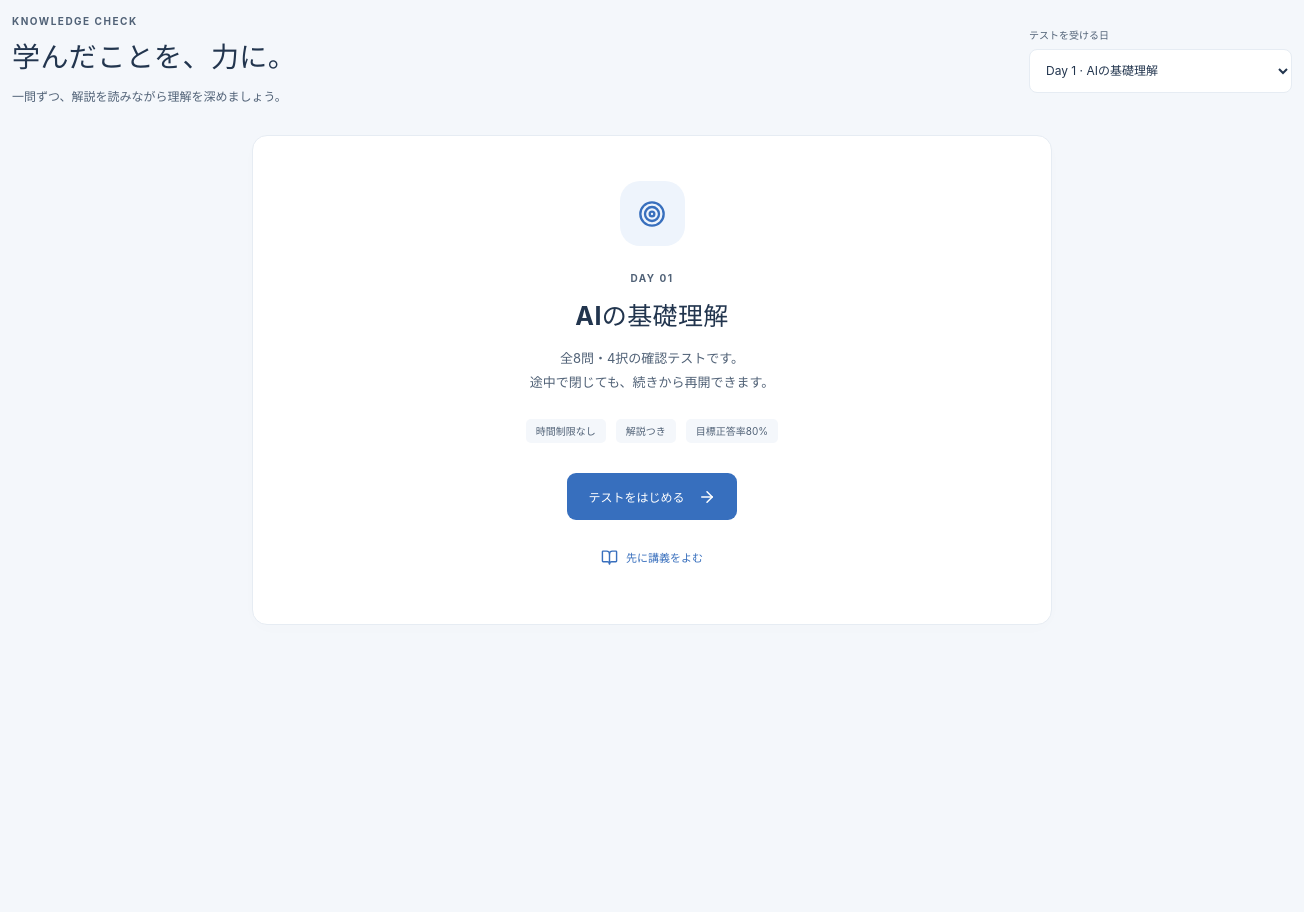
Test: 4択の選択・採点・解説表示を操作でき、再マウントしてもその状態を復元する
Later steps or results of the test are not shown.
Click the button "テストをはじめる": (652,497) 568,473 -> 736,520
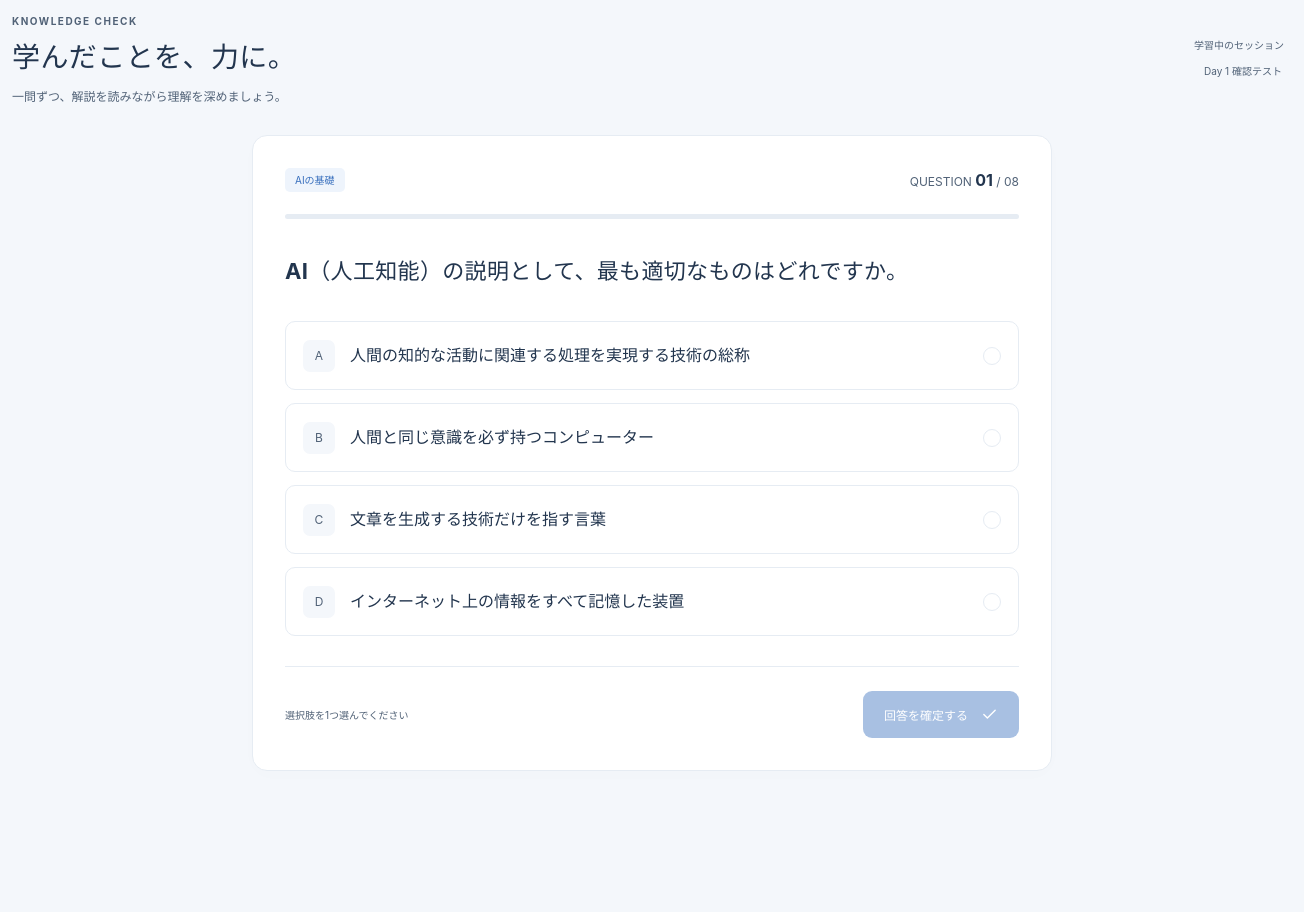
Check: the button "回答を確定する" is disabled, box 863,691 -> 1019,738
Click the radio button labelled "A 人間の知的な活動に関連する処理を実現する技術の総称": (652,356) 285,321 -> 1019,390
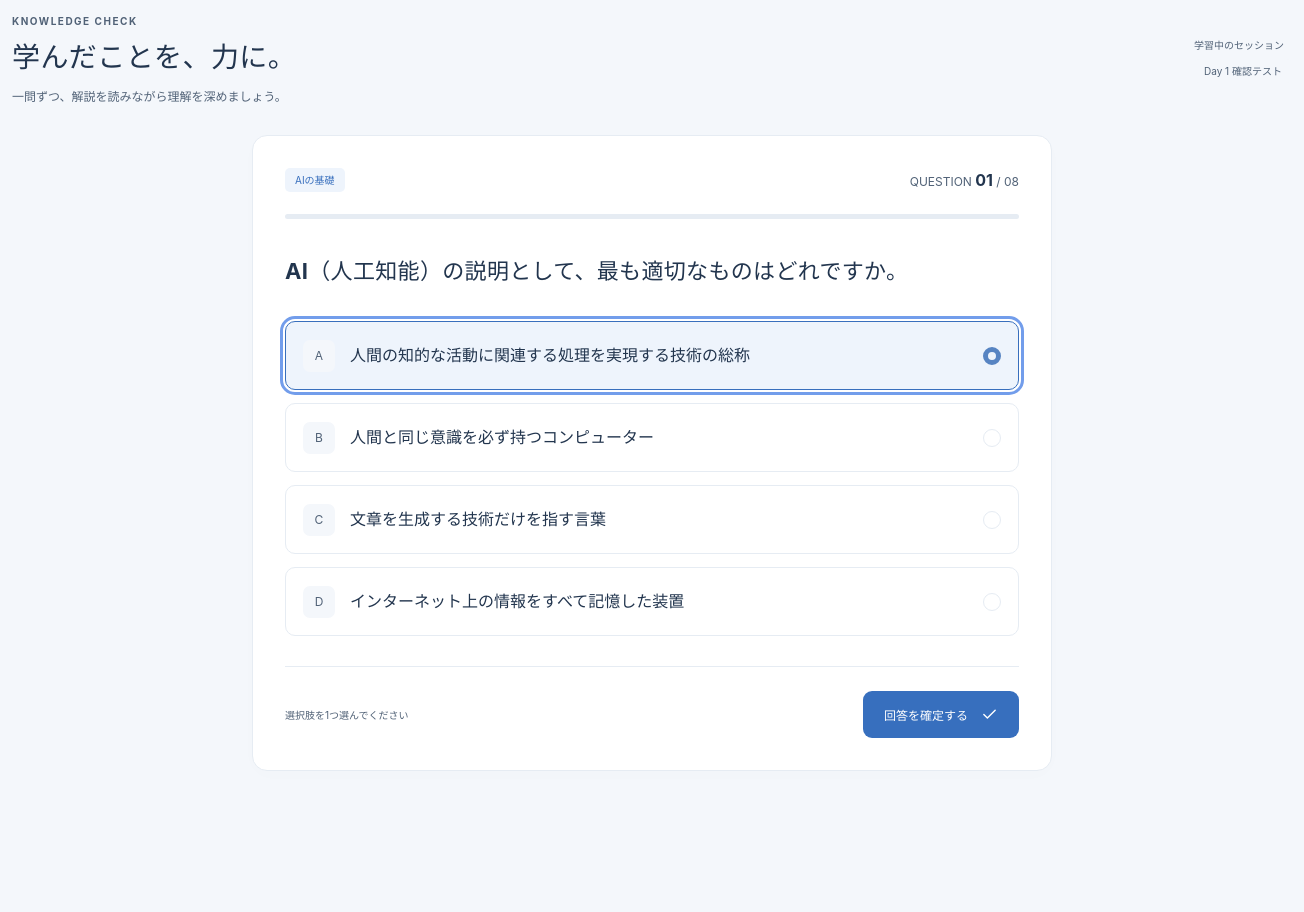
Click the button "回答を確定する": (941,715) 863,691 -> 1019,738
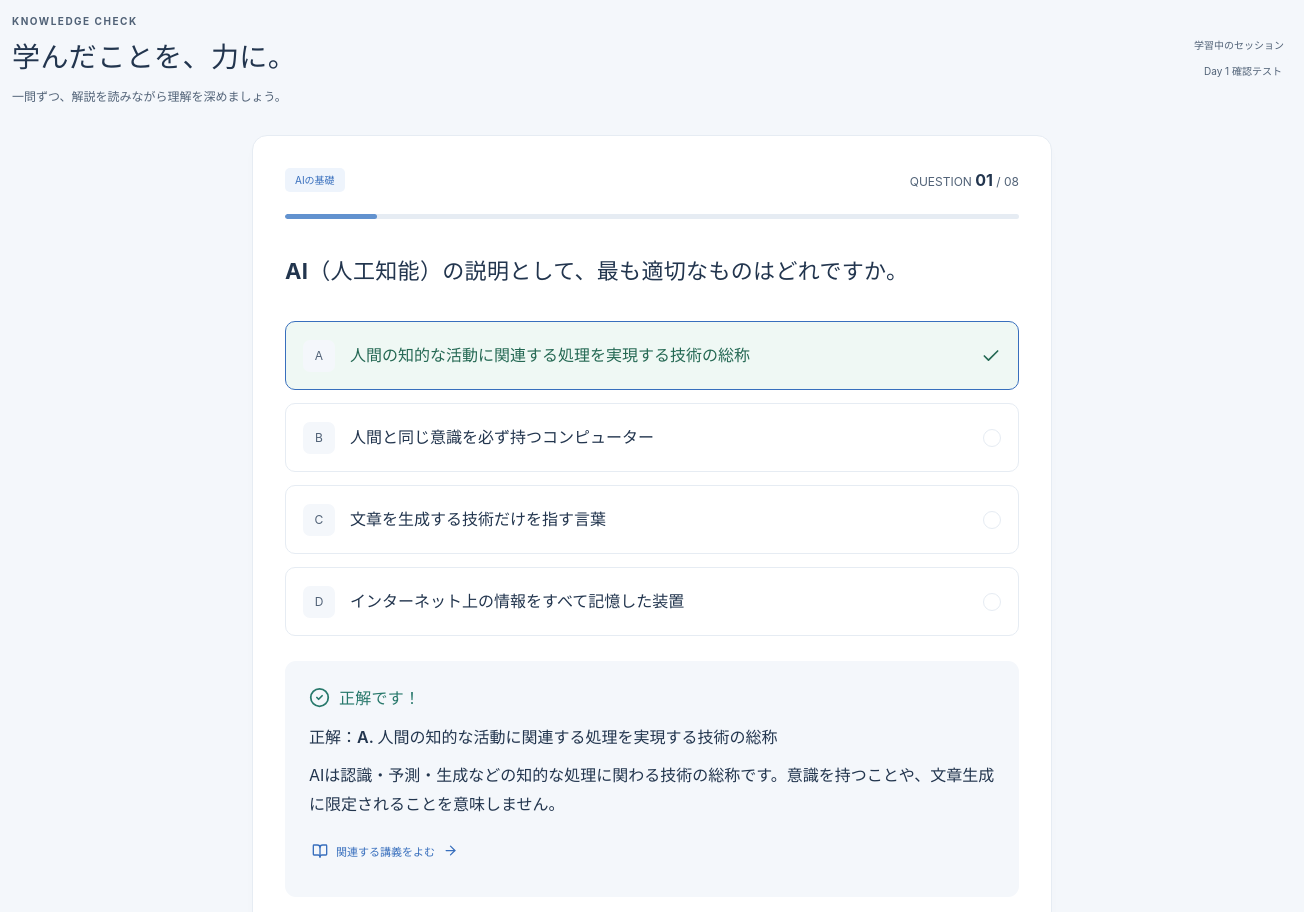
Check: the heading "正解です！" is shown, box 309,687 -> 420,708
Check: the text "AIは認識・予測・生成などの知的な処理に関わる技術の総称です。意識を持つことや、文章生成に限定されることを意味しません。" is shown, box 309,761 -> 995,819
